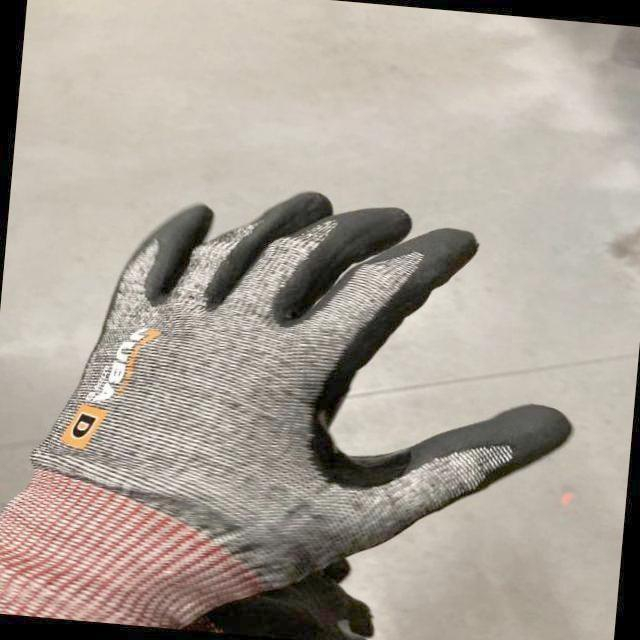Gloves: (0, 189, 572, 632)
